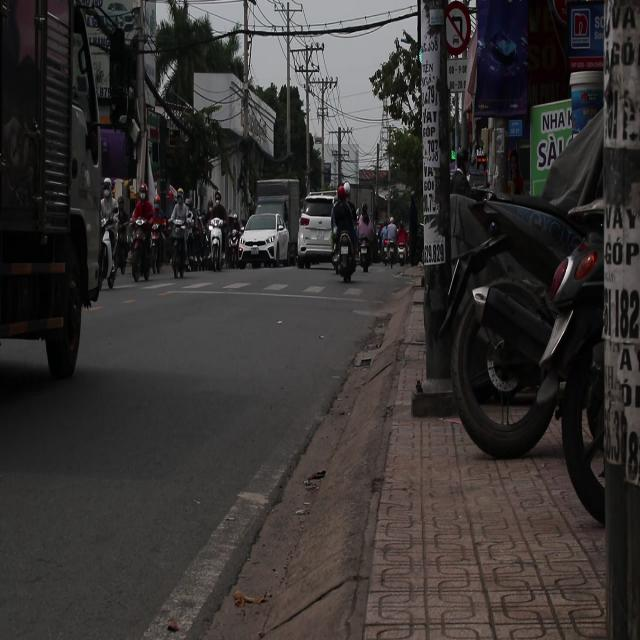car: (238, 207, 292, 268), (296, 193, 338, 268)
motorbike: (207, 208, 240, 292), (94, 198, 122, 296), (125, 214, 154, 298), (334, 212, 360, 289), (170, 222, 198, 292), (386, 214, 408, 275), (356, 221, 380, 275)
truck: (0, 0, 109, 392), (252, 181, 304, 255)
